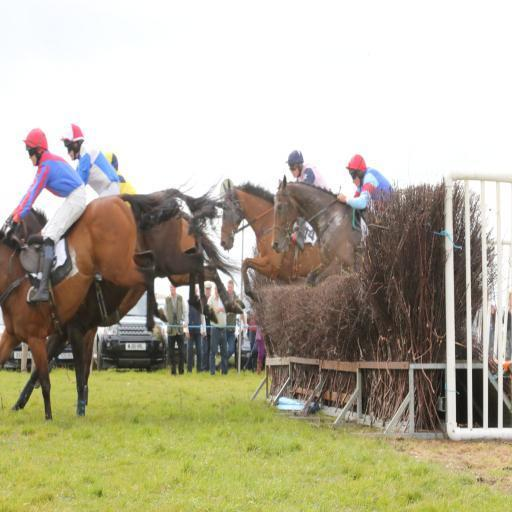horse: (10, 184, 234, 416), (0, 170, 195, 425), (34, 208, 242, 404), (218, 177, 324, 306), (270, 170, 373, 286)
